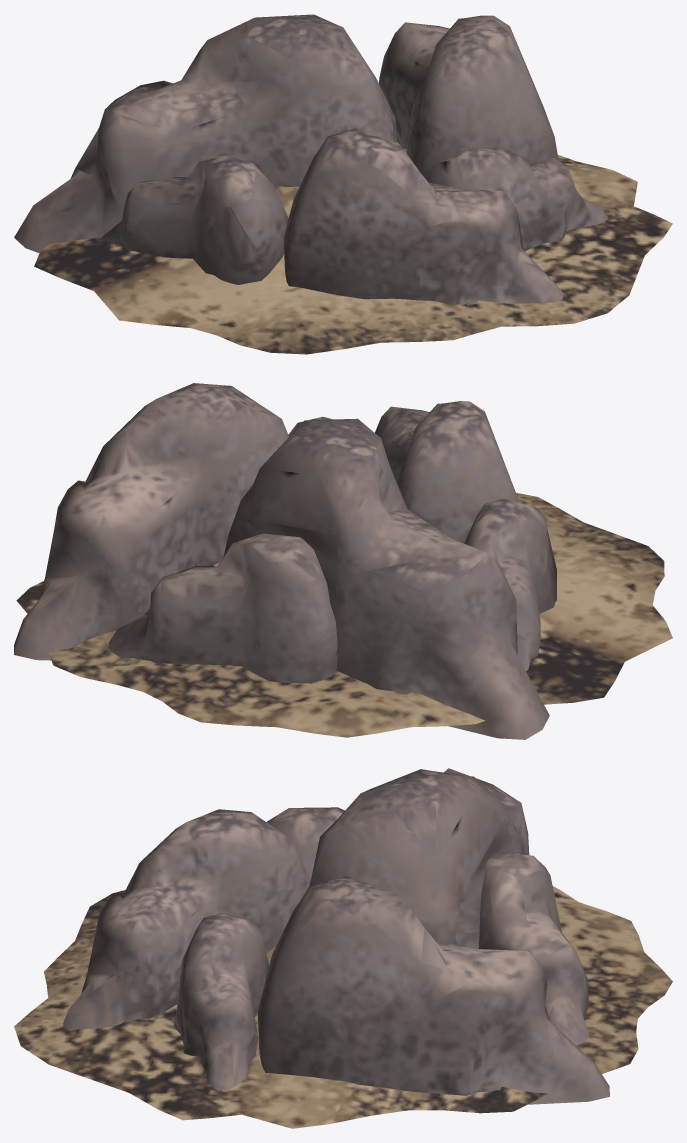
The model's file is Deposit-Metal.fbx.
3 views of the same model, one above another, from view 1: azimuth 30°, elevation 25°; view 2: azimuth 150°, elevation 25°; view 3: azimuth 270°, elevation 25° (orthographic). The views are drawn at different scales.
Parts seen in each view (by area): view 1: Deposit-Metal; view 2: Deposit-Metal; view 3: Deposit-Metal.
Part boxes in pixels (left/top/right/bottom): Deposit-Metal: left=14, top=14, right=672, bottom=354; Deposit-Metal: left=14, top=383, right=672, bottom=739; Deposit-Metal: left=14, top=768, right=672, bottom=1128.
Bounding box in the file's own units: 3.06 × 1.06 × 3.03.
